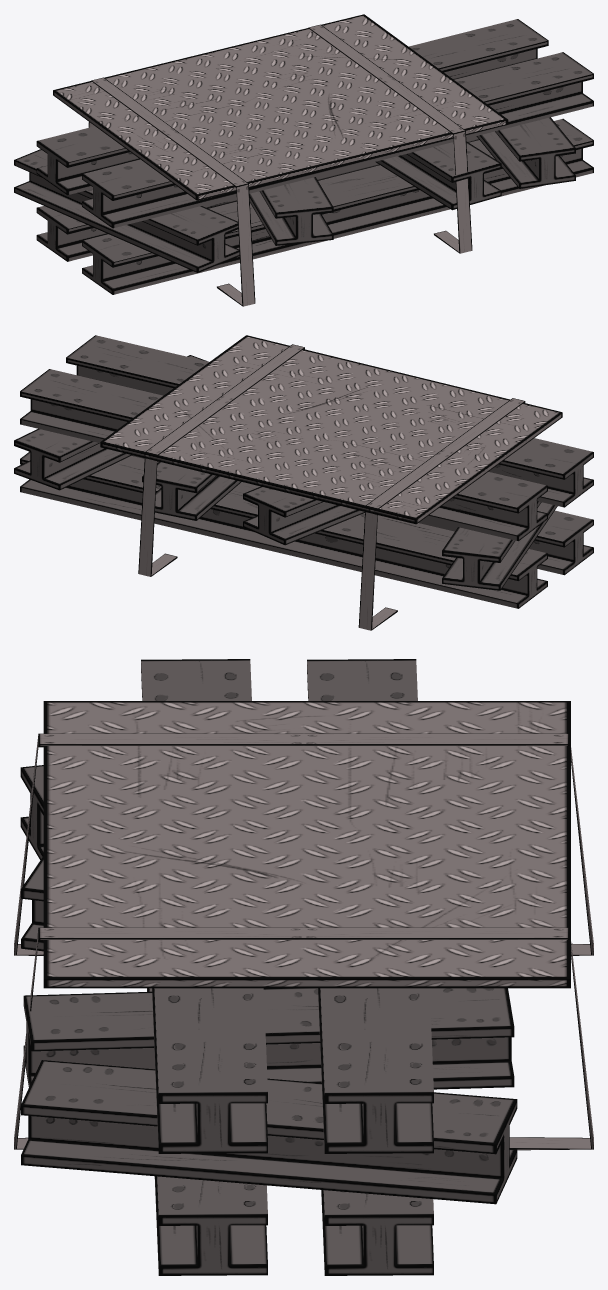
File: Chargement poteau.fbx
The picture shows the model from 3 angles, top to bottom: view 1: azimuth 30°, elevation 25°; view 2: azimuth 150°, elevation 25°; view 3: azimuth 270°, elevation 25°; orthographic projection. The views are drawn at different scales.
Visible parts, largest first — view 1: ChargementPoteau; view 2: ChargementPoteau; view 3: ChargementPoteau.
Part boxes in pixels (x1,y1,x2,y2): ChargementPoteau: (14, 14, 593, 306); ChargementPoteau: (14, 335, 593, 630); ChargementPoteau: (14, 659, 593, 1275).
Bounding box in the file's own units: 102 × 23.14 × 57.42.
